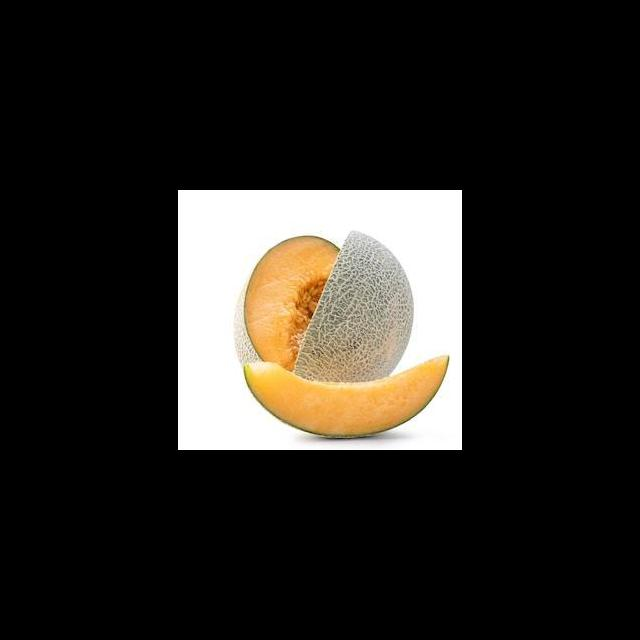Hami Melon: (234, 231, 414, 363), (241, 355, 448, 440)
